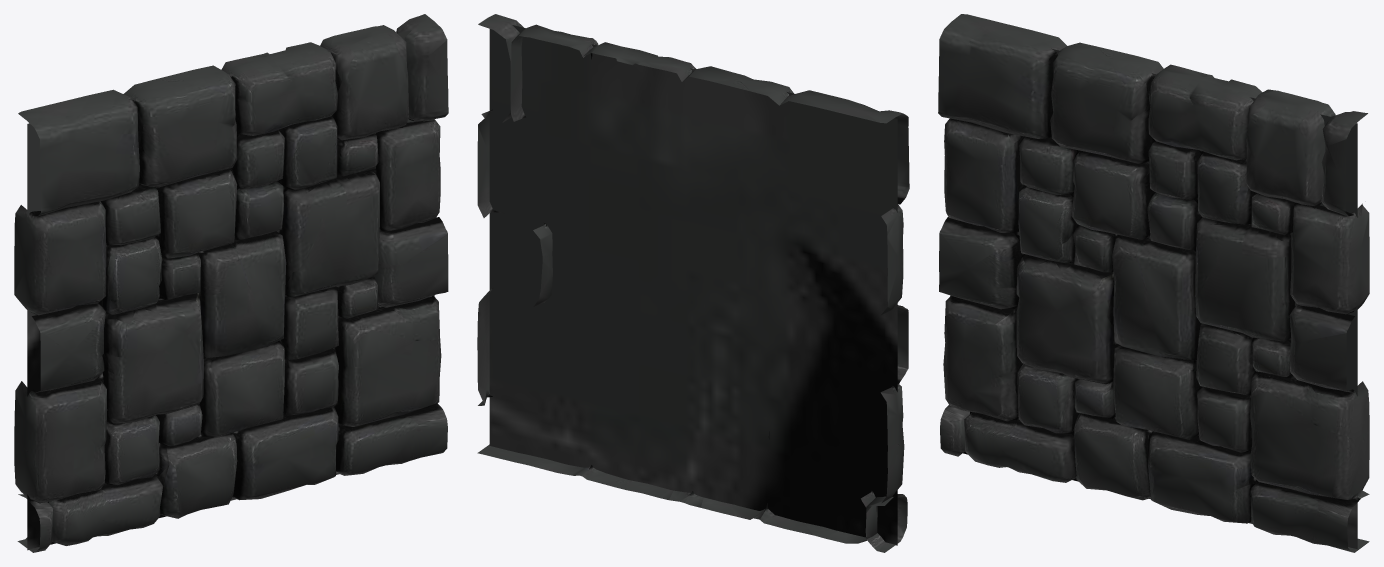
Rendered from Wall_Barracks_Generic.fbx.
3 views of the same model, side by side, from view 1: azimuth 30°, elevation 25°; view 2: azimuth 150°, elevation 25°; view 3: azimuth 330°, elevation 25° (orthographic).
Parts seen in each view (by area): view 1: Wall_Barracks_Generic; view 2: Wall_Barracks_Generic; view 3: Wall_Barracks_Generic.
Part boxes in pixels (x1=…): Wall_Barracks_Generic: x1=14, y1=14, x2=448, y2=552; Wall_Barracks_Generic: x1=477, y1=14, x2=909, y2=552; Wall_Barracks_Generic: x1=938, y1=14, x2=1369, y2=552.
Bounding box in the file's own units: 303 × 302 × 32.7.
